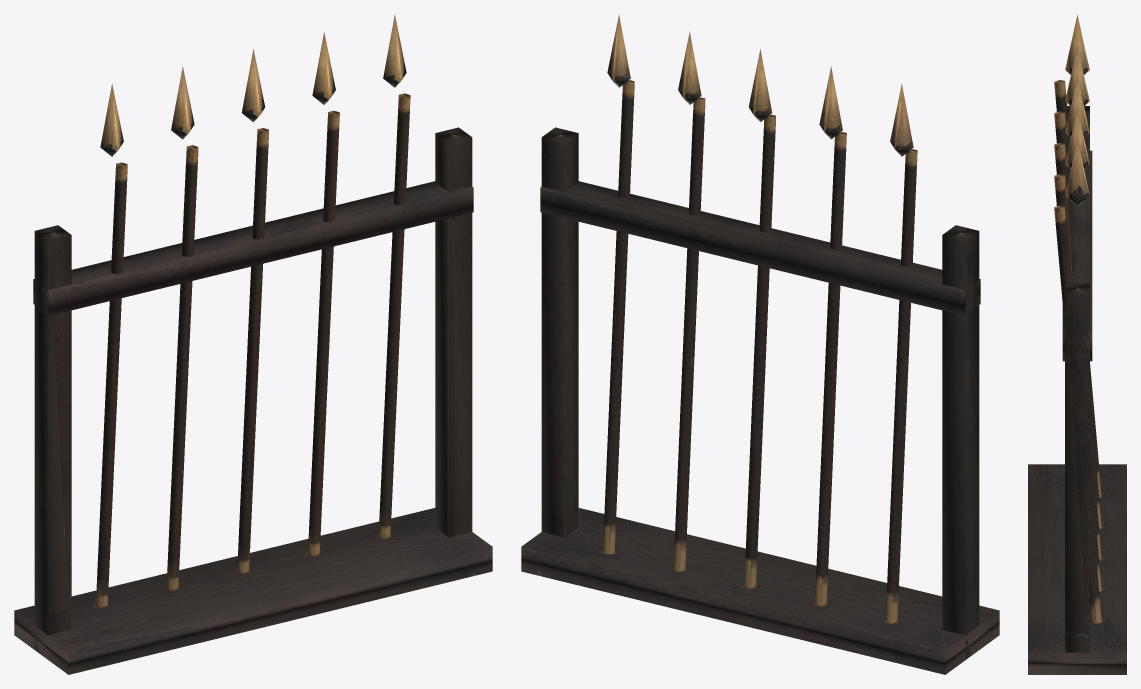
File: weapon_rack.glb
3 renders of one model, left to right at view 1: azimuth 30°, elevation 25°; view 2: azimuth 150°, elevation 25°; view 3: azimuth 270°, elevation 25°, orthographic. The views are drawn at different scales.
Parts seen in each view (by area): view 1: weapon_rack; view 2: weapon_rack; view 3: weapon_rack.
Part boxes in pixels (bbox=[...]): weapon_rack: bbox=[14, 14, 492, 674]; weapon_rack: bbox=[521, 14, 999, 674]; weapon_rack: bbox=[1028, 14, 1126, 674].
Bounding box in the file's own units: 1.8 × 2.25 × 0.4.
Materials: 1 (1 with a texture image).
